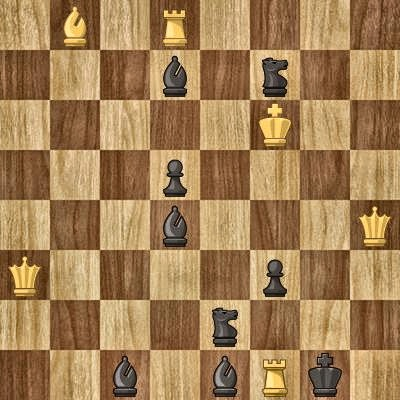black-bishop: (150, 50, 200, 100), (150, 200, 200, 250), (100, 350, 150, 400), (200, 350, 250, 400)
black-king: (300, 350, 350, 400)
black-knight: (250, 50, 300, 100), (200, 300, 250, 350)
black-pawn: (150, 150, 200, 200), (250, 250, 300, 300)
white-bishop: (50, 0, 100, 50)
white-king: (250, 100, 300, 150)
white-queen: (350, 200, 400, 250), (0, 250, 50, 300)
white-rook: (150, 0, 200, 50), (250, 350, 300, 400)
